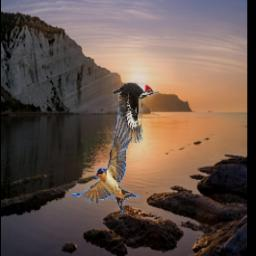Swallow: (71, 105, 140, 215)
Woodpecker: (112, 83, 159, 143)
